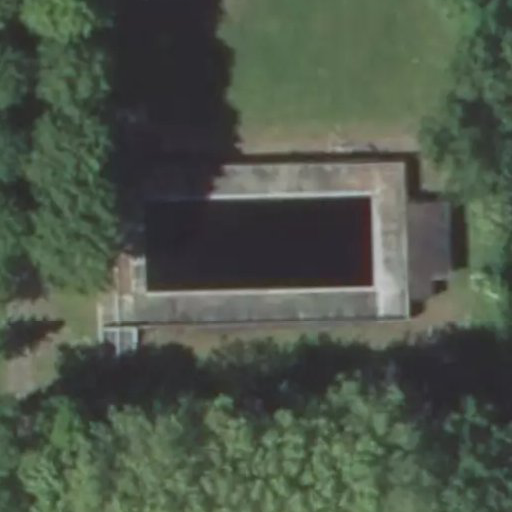pool: (139, 199, 372, 284)
